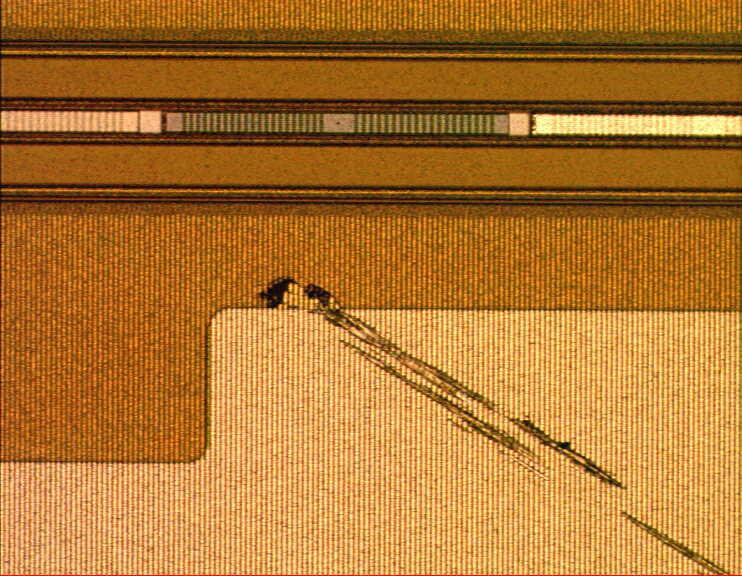SCRATCH: (255, 271, 742, 576)
